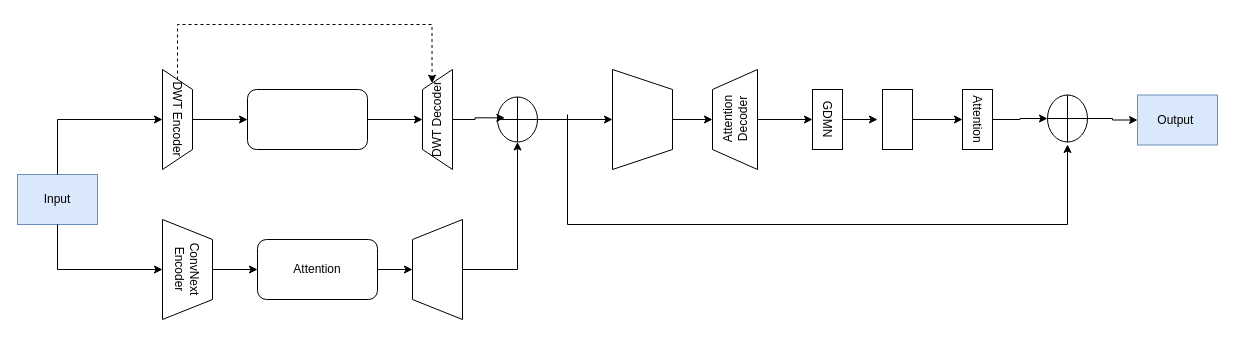
Some shapes in this 1235 by 337 pixel diagram are drawn without their labels. Each missing label, with the centre of its shape:
"Attention Encoder" belongs at point (642, 119).
"COnvNext Decoder" belongs at point (437, 269).
"FFC Block" belongs at point (307, 119).
"FSAS" belongs at point (897, 119).
